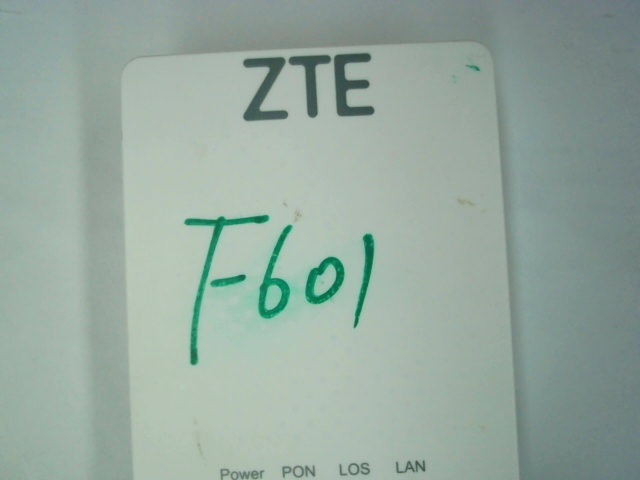AN_ZTE: (221, 46, 396, 130)
